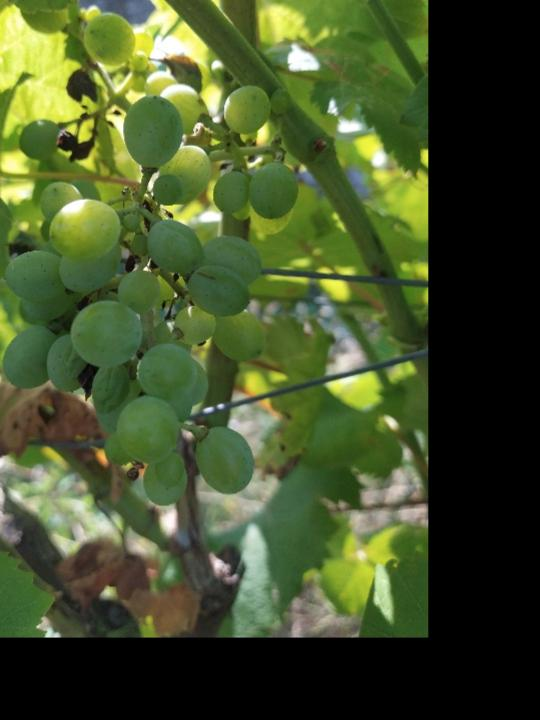grape: (0, 12, 302, 510)
